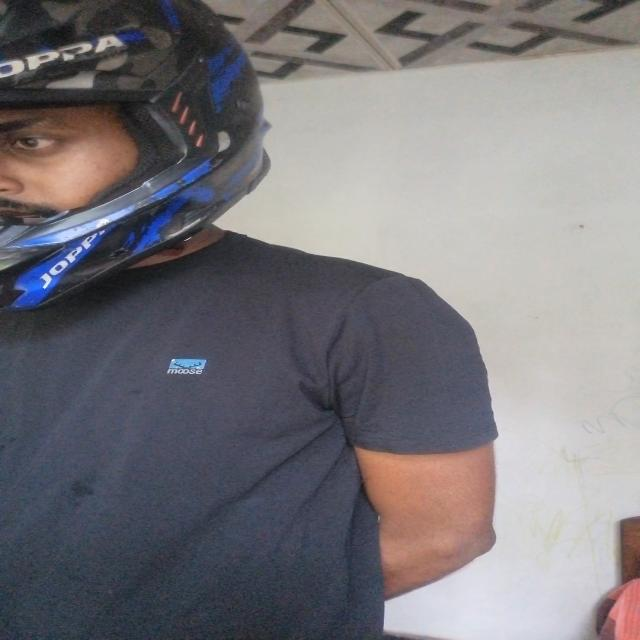Helmet_Wearer: (0, 0, 304, 350)
Person: (22, 0, 510, 640)
